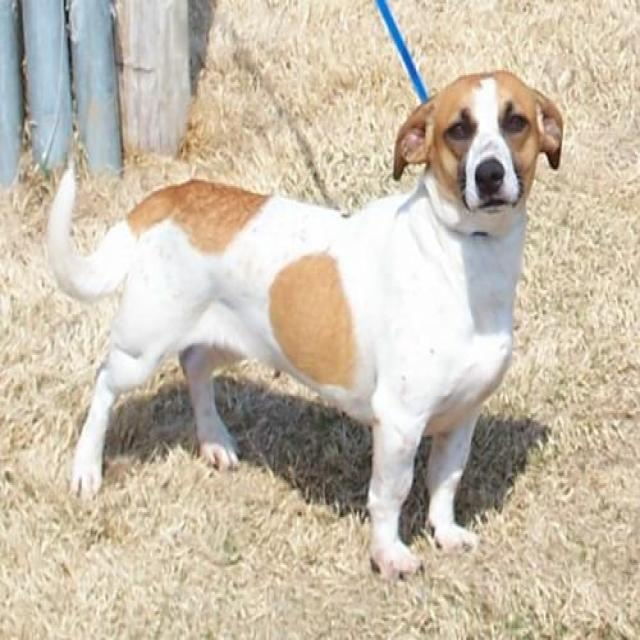Dogs: (45, 67, 563, 582)
